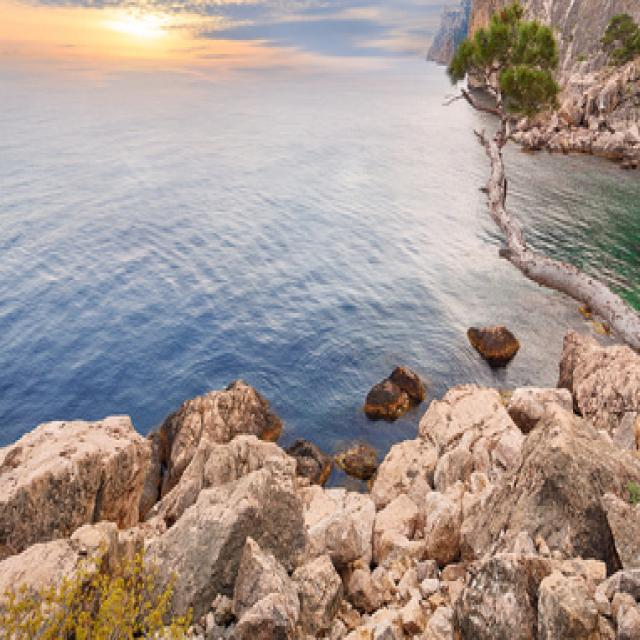reef: (71, 295, 520, 632)
